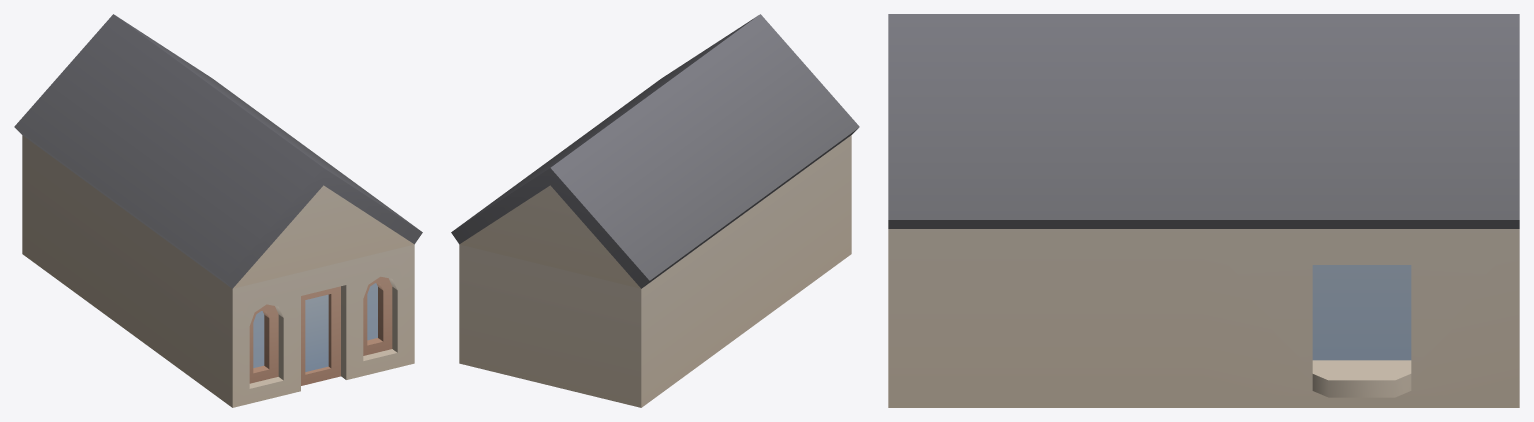
The model's file is building-sample-house-a.glb.
3 views of the same model, side by side, from view 1: azimuth 30°, elevation 25°; view 2: azimuth 150°, elevation 25°; view 3: azimuth 270°, elevation 25° (orthographic). The views are drawn at different scales.
Visible parts, largest first — view 1: building-sample-house-a; view 2: building-sample-house-a; view 3: building-sample-house-a.
Boxes of the visible parts, <box> form: building-sample-house-a: <box>14,14,422,407</box>; building-sample-house-a: <box>451,14,859,407</box>; building-sample-house-a: <box>888,14,1519,407</box>.
Size of the model in its own units: 1.1 by 1.14 by 2.
